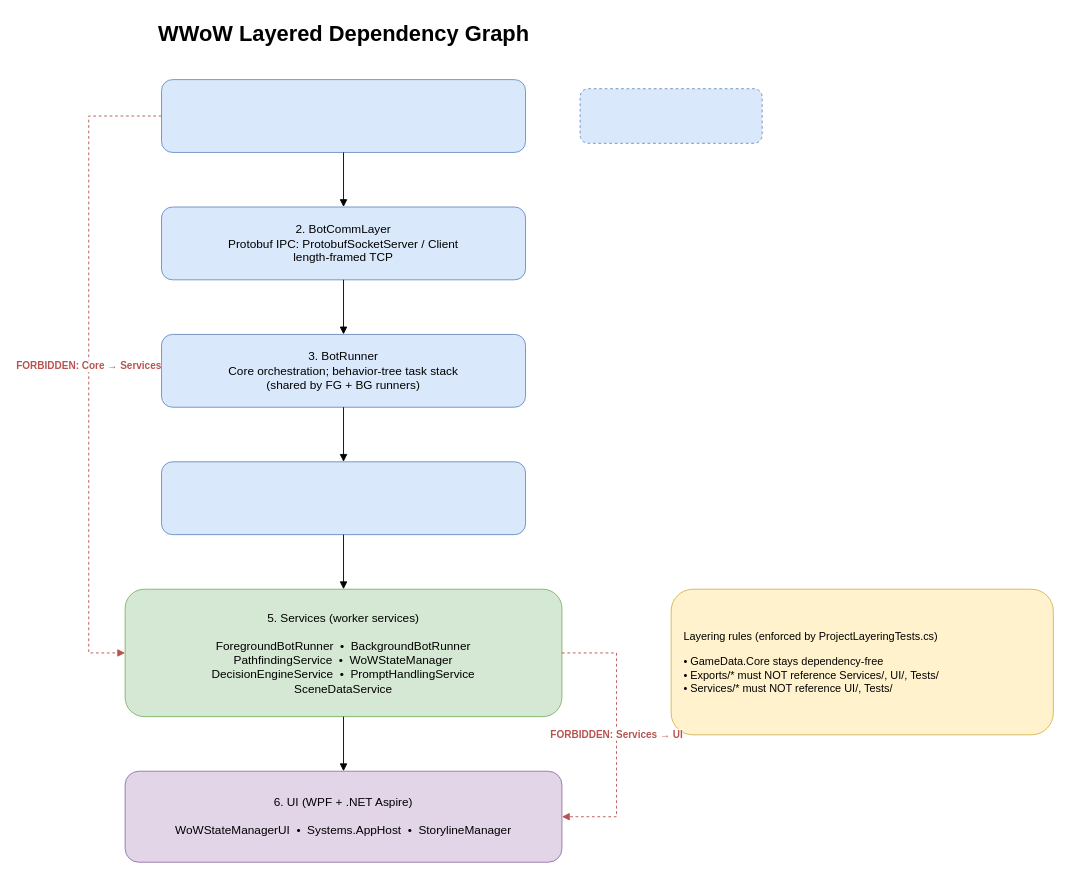
Image size: 1069x878. Some labels were removed from this diagram. The shapes that lost their labels are listed below. From the top down, each one's centre as x and y in pixels, then its label:
At point 343,115: "1. GameData.Core Interfaces + enums + models (ZERO dependencies)".
At point 670,115: "WinImports (sibling low-level Windows-API lib)".
At point 343,498: "4. WoWSharpClient WoW 1.12.1 protocol: packets, opcodes, auth".
